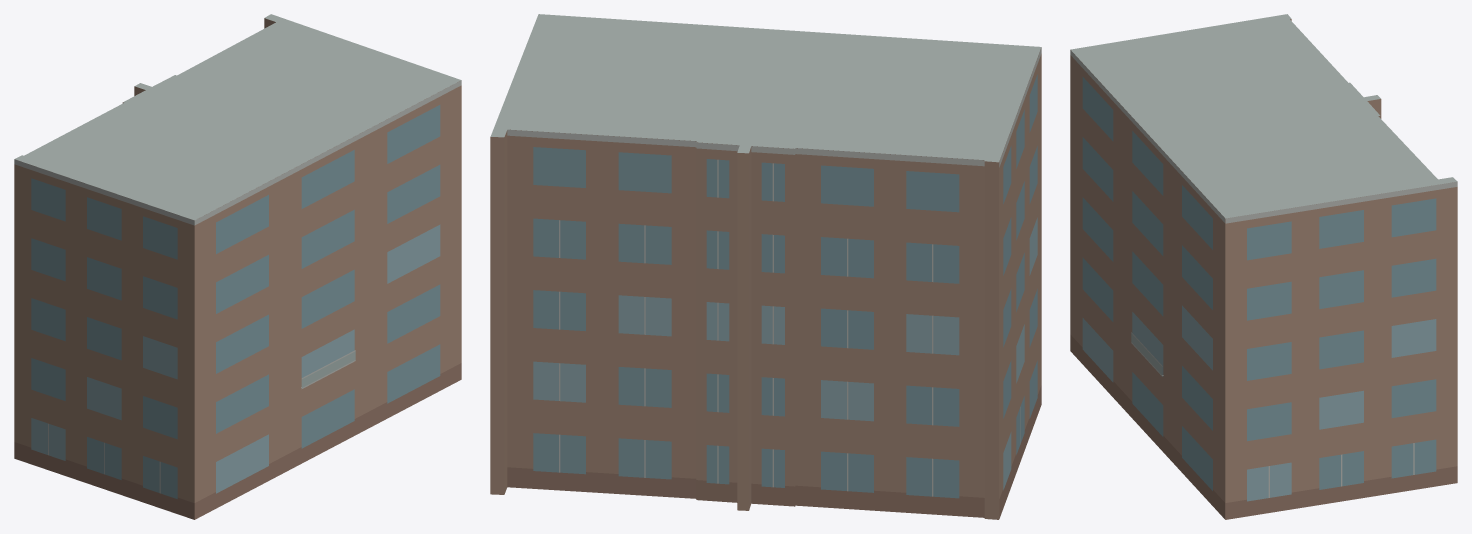
File: survey-upis-32839875.glb
3 views of the same model, side by side, from view 1: azimuth 30°, elevation 25°; view 2: azimuth 150°, elevation 25°; view 3: azimuth 270°, elevation 25° (orthographic). The views are drawn at different scales.
Visible parts, largest first — view 1: survey-upis-32839875.tmp; view 2: survey-upis-32839875.tmp; view 3: survey-upis-32839875.tmp.
Boxes of the visible parts, x1,y1,x2,y2 form: survey-upis-32839875.tmp: (14,14,461,519); survey-upis-32839875.tmp: (490,14,1041,519); survey-upis-32839875.tmp: (1070,14,1457,519).
Bounding box in the file's own units: 20.82 × 14.3 × 16.67.
